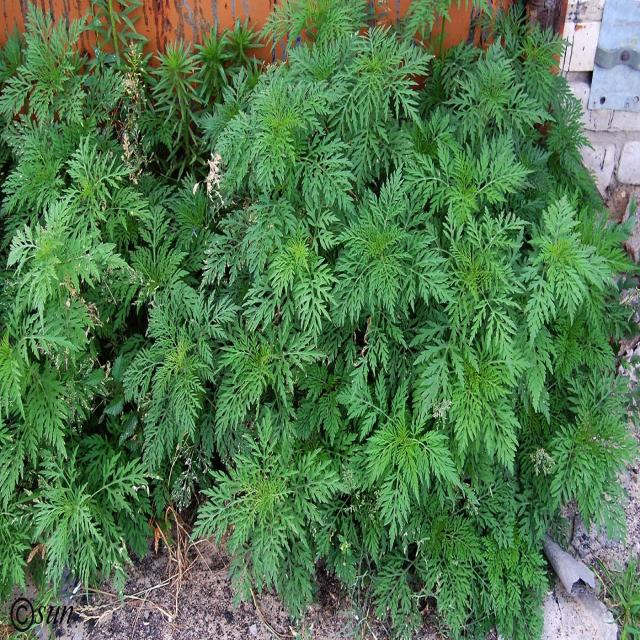ambrosia: (6, 343, 135, 545), (506, 366, 627, 519), (207, 422, 330, 566), (412, 508, 550, 634), (334, 180, 454, 319), (114, 294, 221, 447), (338, 398, 462, 522), (216, 64, 339, 185), (443, 30, 558, 134), (522, 193, 602, 332), (12, 114, 131, 204), (253, 224, 334, 354), (450, 203, 530, 324), (21, 201, 108, 296), (348, 24, 428, 121), (13, 21, 91, 104)
